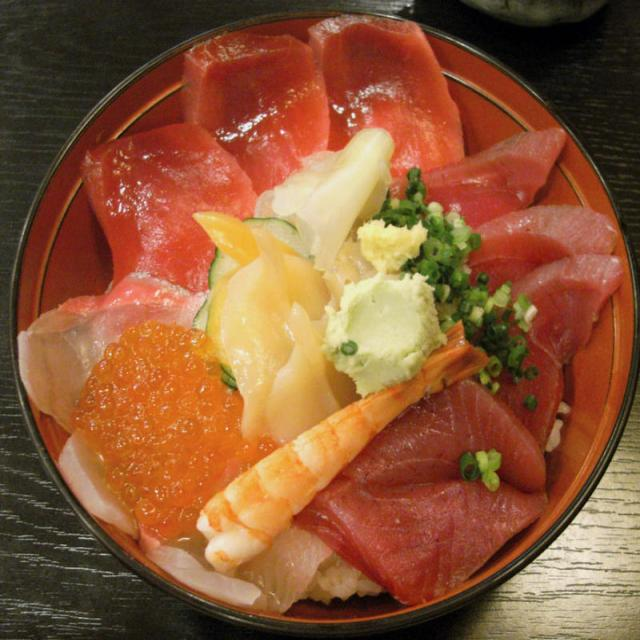刺身生食: (0, 0, 346, 511)
